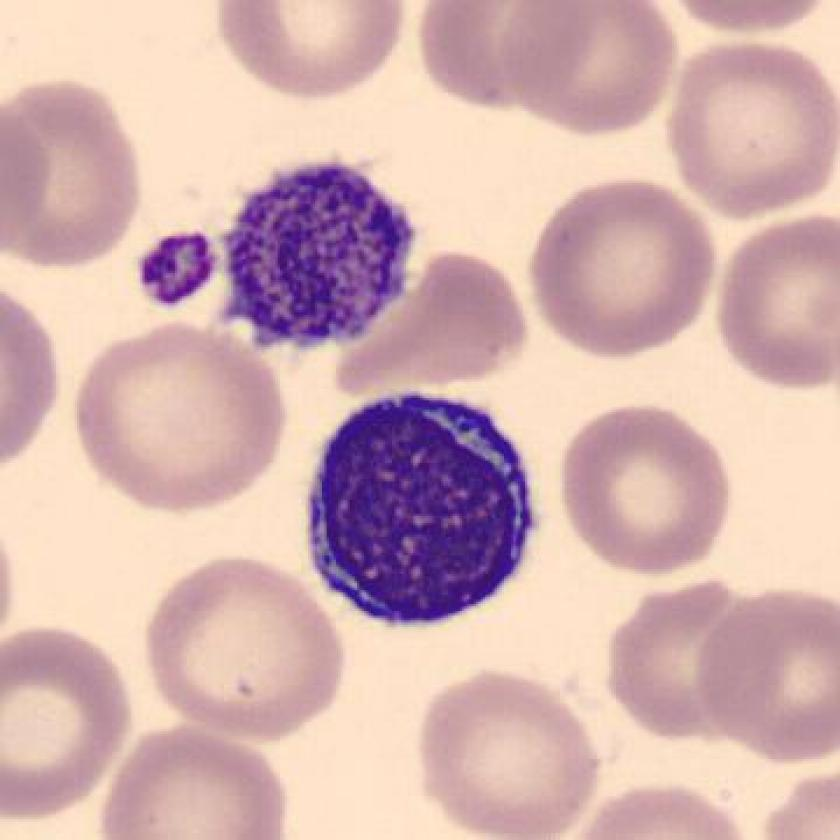lymphocyte: (288, 388, 556, 638), (215, 154, 422, 352)
platelets: (131, 228, 220, 309)
